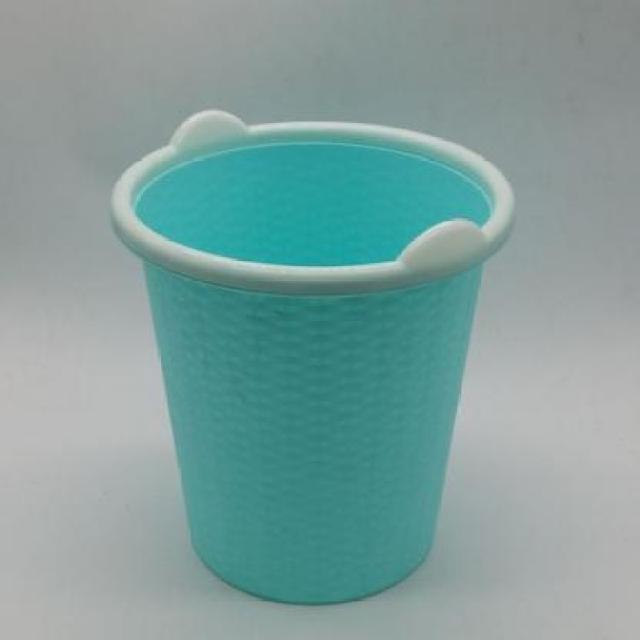dustbin: (106, 104, 522, 608)
